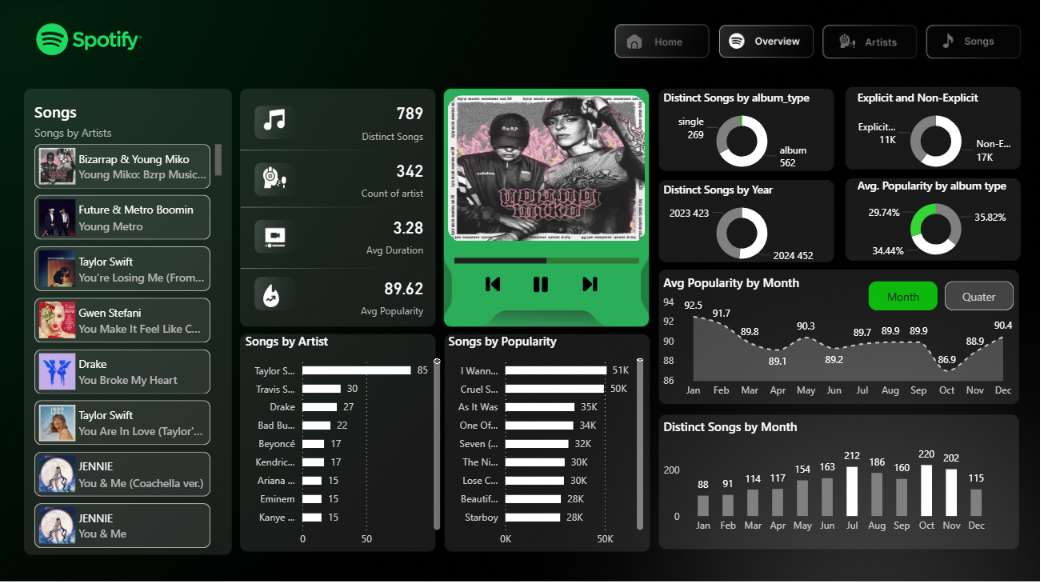

The page's visual inventory and layout, read from the dashboard file:
{"tool":"powerbi","page":{"name":"Overview","canvas":[1280,720],"ordinal":1},"visuals":[{"type":"clusteredBarChart","title":"Songs by Artist","fields":{"Category":["Top-50-World.artist"],"Y":["_Measures.Distinct Songs"]},"box":[298.1,408.4,249.3,271.8],"z":0},{"type":"clusteredBarChart","title":"Songs by Popularity","fields":{"Category":["Top-50-World.song"],"Y":["Sum(Top-50-World.popularity)"]},"box":[547.4,408.4,249.3,271.8],"z":1000},{"type":"areaChart","fields":{"Category":["Top-50-World.Month"],"Y":["_Measures.Avg Popularity"]},"box":[810.5,337,440.9,160.3],"z":2000},{"type":"advancedSlicerVisual","fields":{"Values":["Slicer_option.Slicer_option"]},"box":[1062.3,340.7,189.2,46.3],"z":3000},{"type":"donutChart","fields":{"Y":["_Measures.Distinct Songs"],"Category":["Top-50-World.album_type"]},"box":[810.5,111.5,202.9,108],"z":4000},{"type":"donutChart","title":"Explicit and Non-Explicit","fields":{"Y":["_Measures.Non-Explicit Songs","_Measures.Explicit Songs"]},"box":[1048.5,111.5,202.9,108],"z":5000},{"type":"donutChart","fields":{"Y":["_Measures.Distinct Songs"],"Category":["Top-50-World.Year"]},"box":[810.5,224.2,202.9,108],"z":6000},{"type":"donutChart","title":"Avg. Popularity by album type","fields":{"Category":["Top-50-World.album_type"],"Y":["_Measures.Avg Popularity"]},"box":[1048.5,219.2,202.9,107.7],"z":7000},{"type":"clusteredColumnChart","fields":{"Category":["Top-50-World.Month"],"Y":["_Measures.Distinct Songs"]},"box":[810.5,513.6,413.4,150.3],"z":8000},{"type":"cardVisual","fields":{"Data":["_Measures.Distinct Songs"]},"box":[418.4,111.5,120.3,70.2],"z":9000},{"type":"cardVisual","fields":{"Data":["Count(Top-50-World.artist)"]},"box":[418.4,181.6,120.3,70.2],"z":10000},{"type":"cardVisual","fields":{"Data":["_Measures.Avg Duration Minutes"]},"box":[418.4,251.8,120.3,70.2],"z":11000},{"type":"cardVisual","fields":{"Data":["_Measures.Avg Popularity"]},"box":[418.4,327,120.3,70.2],"z":12000},{"type":"image","box":[320.7,340.7,37.6,46.3],"z":13000},{"type":"image","box":[310.7,200.4,56.4,37.6],"z":14000},{"type":"image","box":[304.4,273.1,70.2,38.8],"z":15000},{"type":"image","box":[310.7,130.3,56.4,35.1],"z":16000},{"type":"advancedSlicerVisual","title":"Songs ","fields":{"Values":["Top-50-World.song"]},"box":[38.8,125.3,239.3,554.9],"z":17000},{"type":"advancedSlicerVisual","title":"Songs ","fields":{"Values":["Top-50-World.song"]},"box":[524.9,111.5,294.4,191.7],"z":18000},{"type":"hundredPercentStackedBarChart","fields":{"Y":["_Measures.Avg Popularity","Avg(Top-50-World.popularity)"]},"box":[554.9,285.6,236.8,63.9],"z":19000},{"type":"image","box":[586.3,334.5,40,30.1],"z":20000},{"type":"image","box":[705.3,334.5,40.1,30.1],"z":21000},{"type":"shape","box":[549.9,111.5,249.3,291.9],"z":22000},{"type":"image","box":[645.7,329.5,40.1,40.1],"z":23000},{"type":"actionButton","box":[755.9,32.6,117.8,40.1],"z":24000},{"type":"actionButton","box":[884.9,32.6,117.8,40.1],"z":25000},{"type":"actionButton","box":[1012.7,32.6,117.8,40.1],"z":26000},{"type":"actionButton","box":[1140.5,32.6,117.8,40.1],"z":27000}]}

Visuals, with their boxes in screenshot pixels (x1, y1, x2, y2), scaled from the page's 1280x720 canvas onto the 1041x582 screenshot:
"Songs by Artist" clusteredBarChart: 242,330,445,550
"Songs by Popularity" clusteredBarChart: 445,330,648,550
areaChart - Top-50-World.Month x _Measures.Avg Popularity: 659,272,1018,402
advancedSlicerVisual - Slicer_option.Slicer_option: 864,275,1018,313
donutChart - _Measures.Distinct Songs x Top-50-World.album_type: 659,90,824,177
"Explicit and Non-Explicit" donutChart: 853,90,1018,177
donutChart - _Measures.Distinct Songs x Top-50-World.Year: 659,181,824,269
"Avg. Popularity by album type" donutChart: 853,177,1018,264
clusteredColumnChart - Top-50-World.Month x _Measures.Distinct Songs: 659,415,995,537
cardVisual - _Measures.Distinct Songs: 340,90,438,147
cardVisual - Count(Top-50-World.artist): 340,147,438,204
cardVisual - _Measures.Avg Duration Minutes: 340,204,438,260
cardVisual - _Measures.Avg Popularity: 340,264,438,321
image: 261,275,291,313
image: 253,162,299,192
image: 248,221,305,252
image: 253,105,299,134
"Songs " advancedSlicerVisual: 32,101,226,550
"Songs " advancedSlicerVisual: 427,90,666,245
hundredPercentStackedBarChart - _Measures.Avg Popularity x Avg(Top-50-World.popularity): 451,231,644,283
image: 477,270,509,295
image: 574,270,606,295
shape: 447,90,650,326
image: 525,266,558,299
actionButton: 615,26,711,59
actionButton: 720,26,815,59
actionButton: 824,26,919,59
actionButton: 928,26,1023,59
